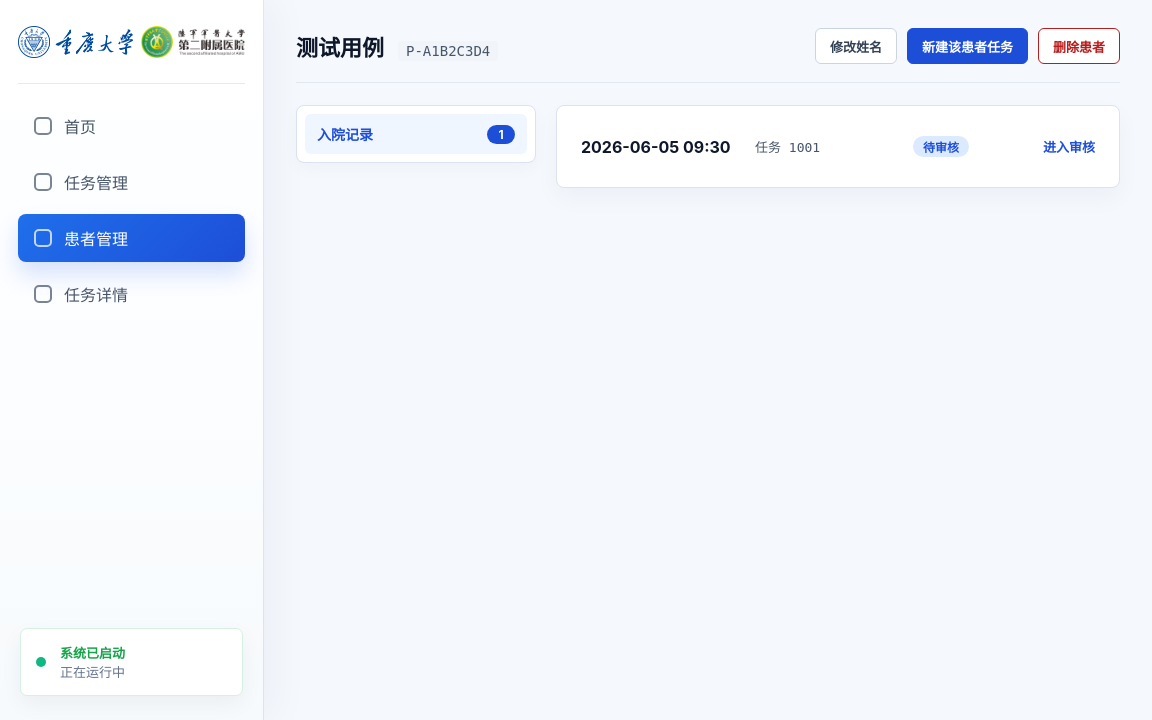
Test case: PatientDetailPage › refreshes header and record groups after rename
Expected: the heading "测试用例" is shown, [296, 30, 384, 62]
Click the button "修改姓名": (856, 46) [815, 28, 897, 64]
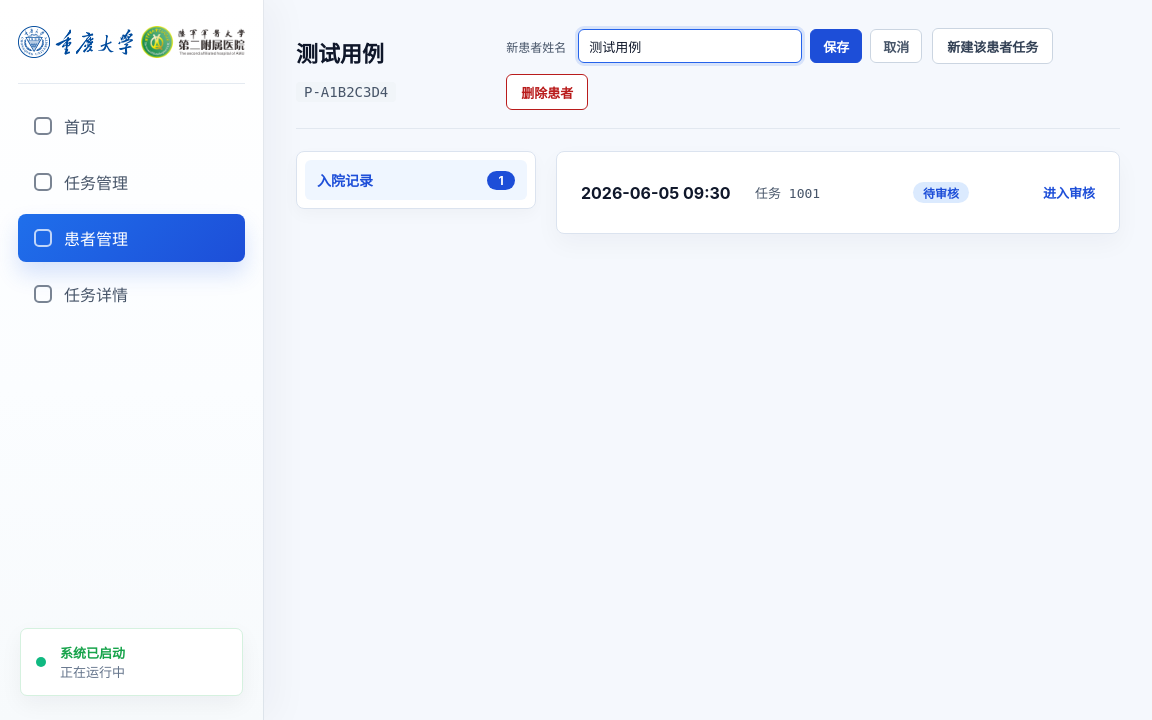
Replace the text in the field labelled "新患者姓名" with "新名字": (690, 46) [578, 29, 802, 63]
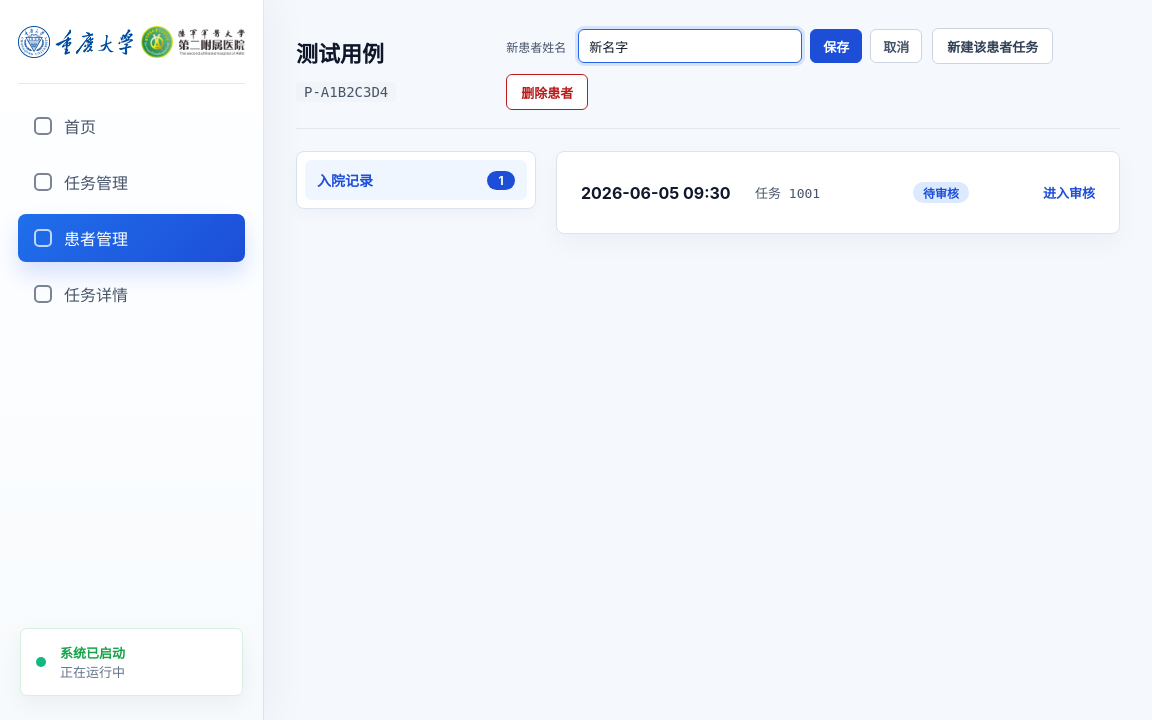
Click the button "保存": (836, 46) [810, 29, 862, 63]
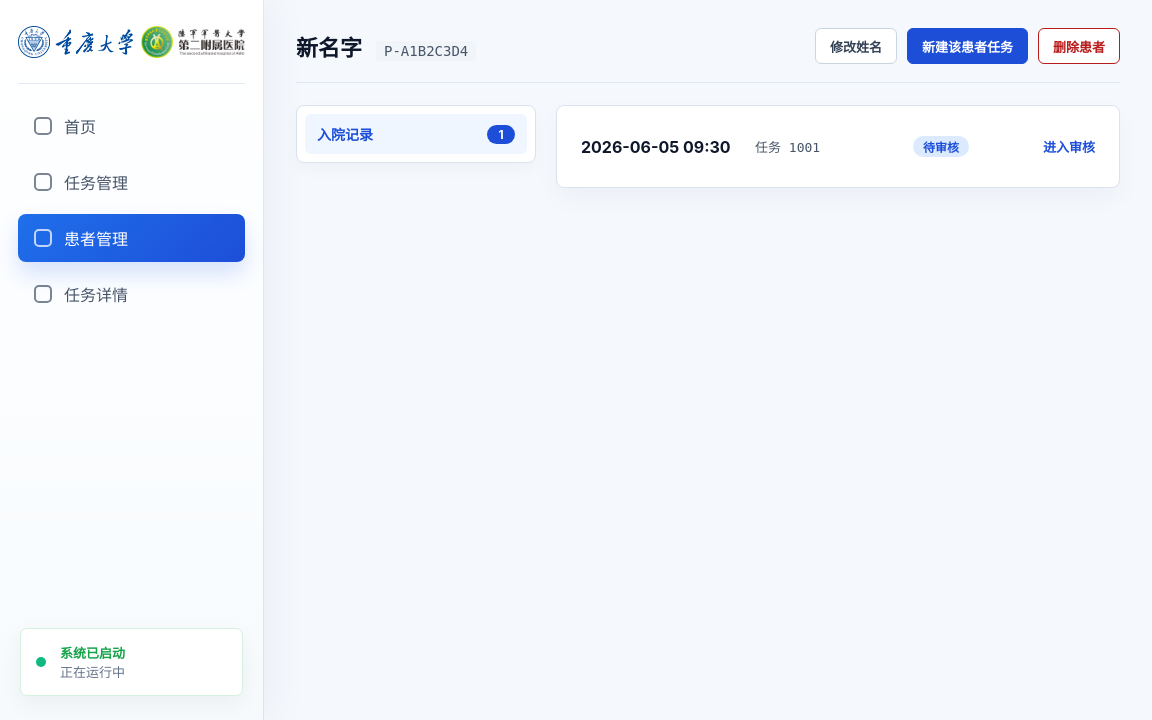
Result: the heading "新名字" is shown at [296, 30, 362, 62]
